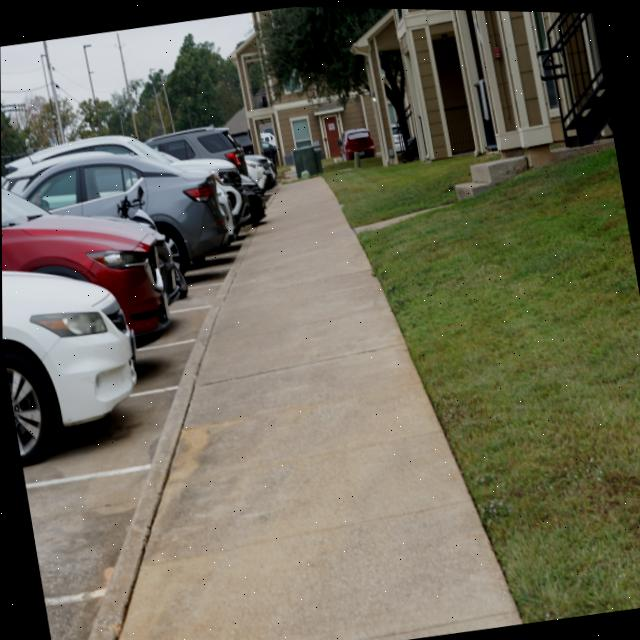Automobile: (1, 126, 275, 466), (343, 128, 374, 155)
Road: (22, 239, 242, 640)
Sidewalk: (87, 175, 522, 640)
